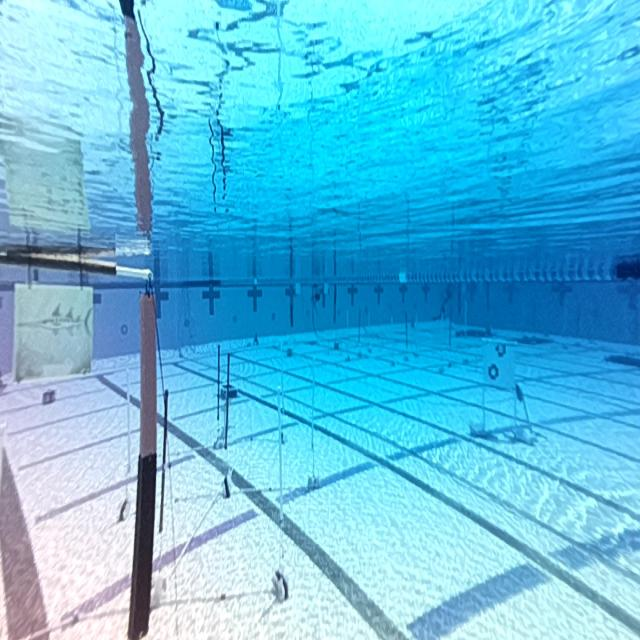pointed_nose: (11, 279, 94, 377)
